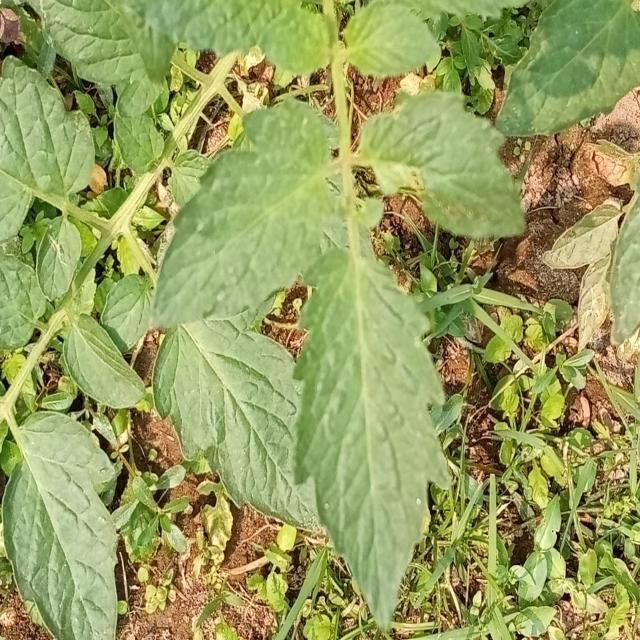Healthy: (119, 79, 385, 377), (290, 247, 453, 629), (339, 62, 564, 263), (145, 308, 320, 547), (2, 412, 117, 639), (496, 0, 640, 134)
